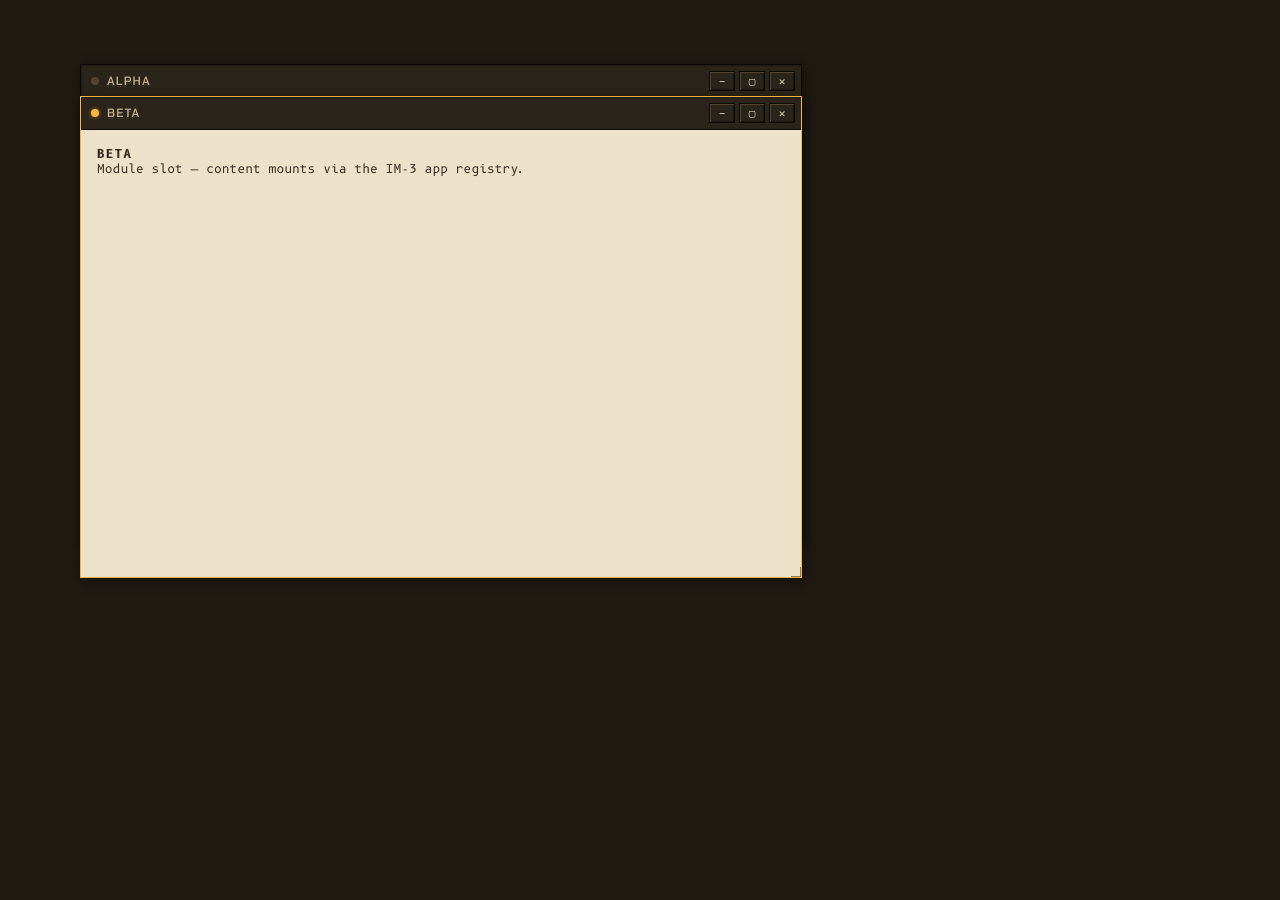
Test case: WindowHost · close + content slot › close removes the window from the host and focuses the survivor
Click the button named "Close" at (782, 81), box [769,71,795,91]
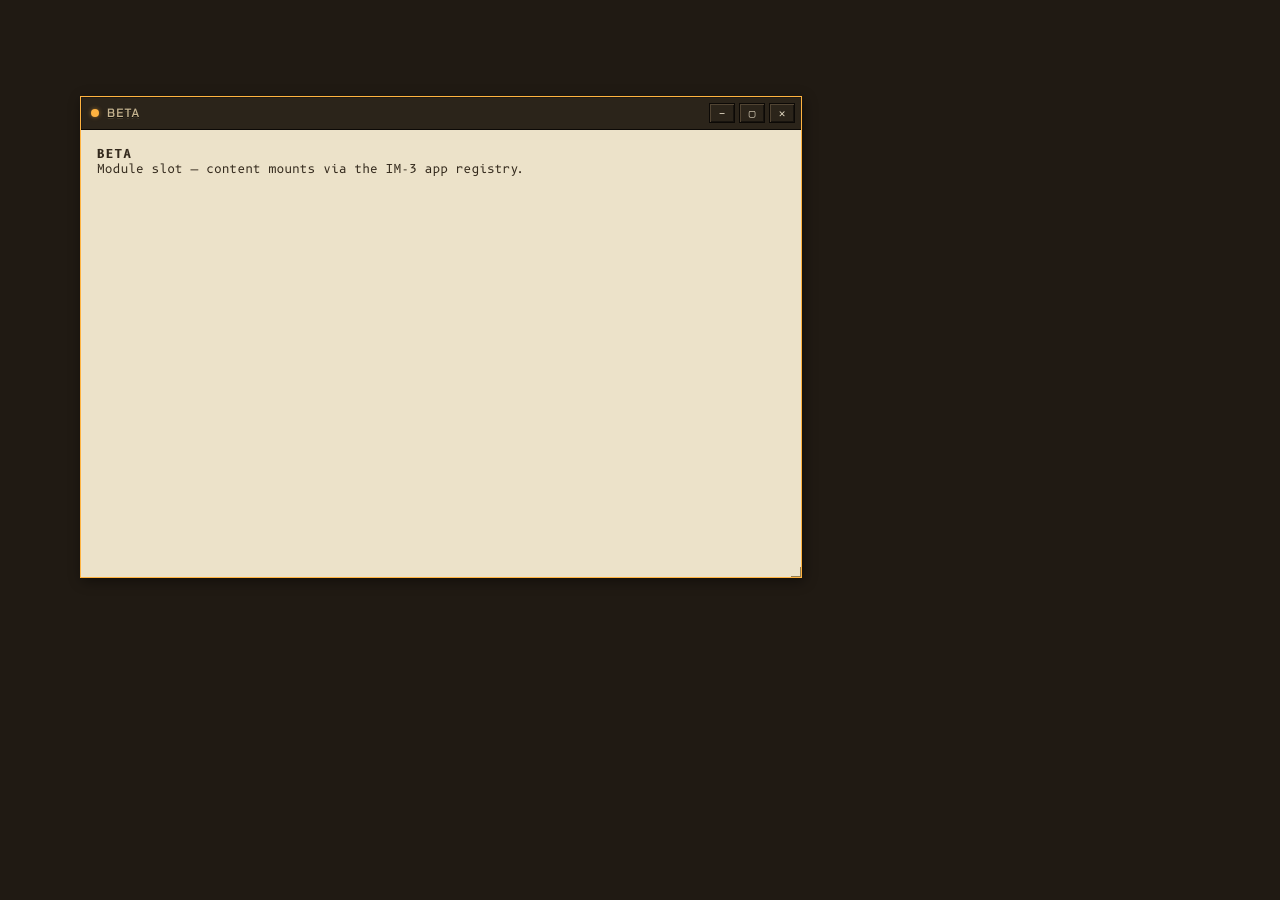
Expected: the number of dialogs is 1, [80,96,802,578]
Expected: the heading "Alpha" is gone
